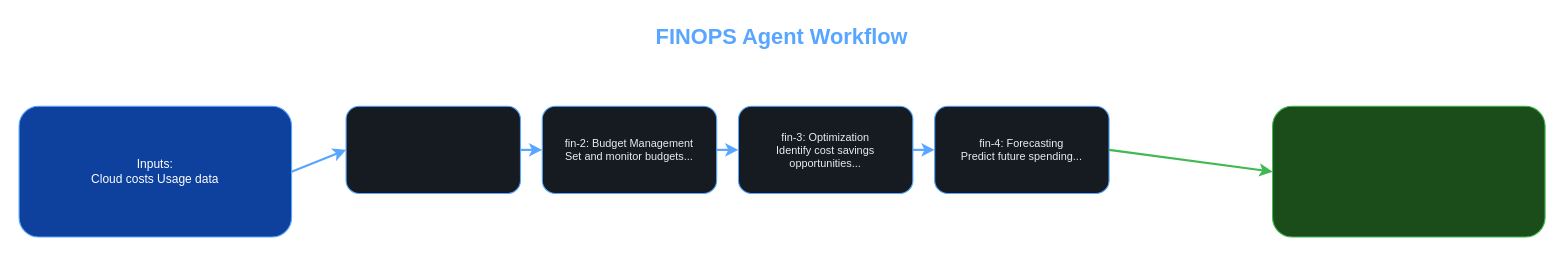
Some shapes in this 1564 by 256 pixel diagram are drawn without their labels. The centre of each missing label's shape, as x and y in pixels:
"fin-1: Cost Tracking Track costs by service and tag..." goes at pixel 432 149.
"Outputs: Cost reports Budget status Optimization recommendations" goes at pixel 1408 171.
